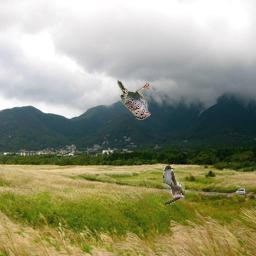Cuckoo: (163, 165, 185, 205)
Sparrow: (117, 80, 151, 120)
